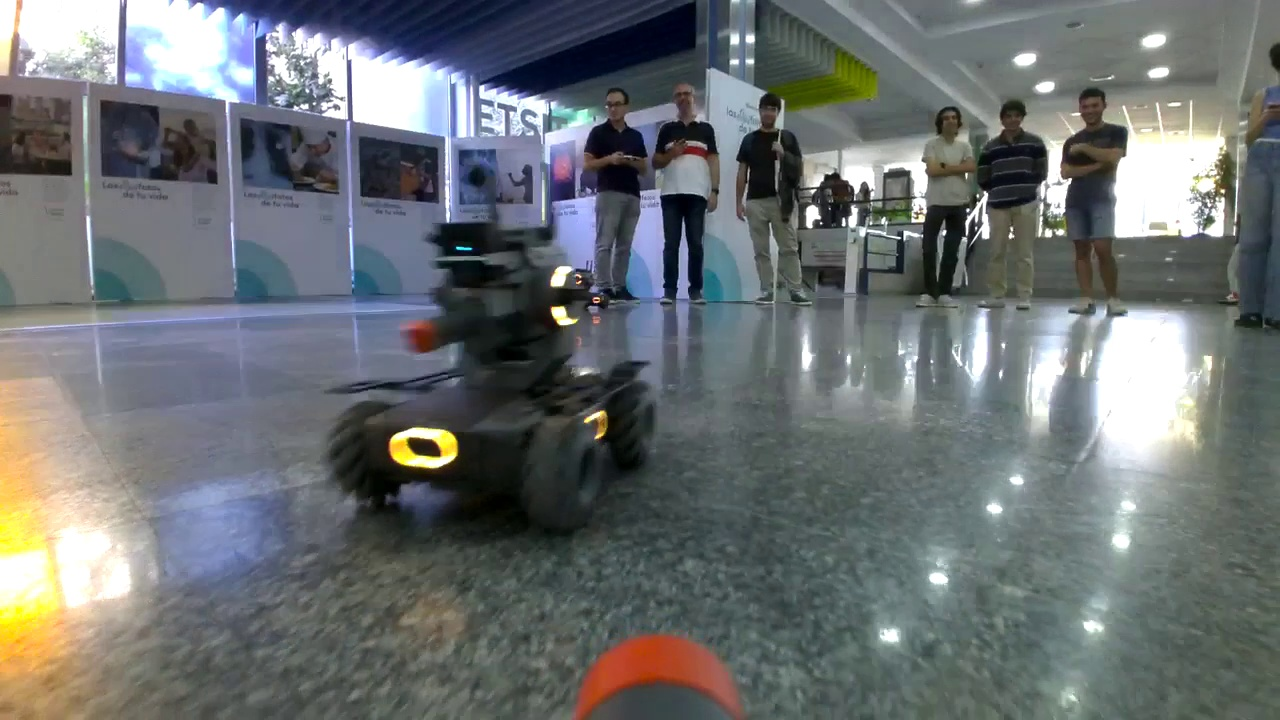robot: (334, 217, 660, 531)
